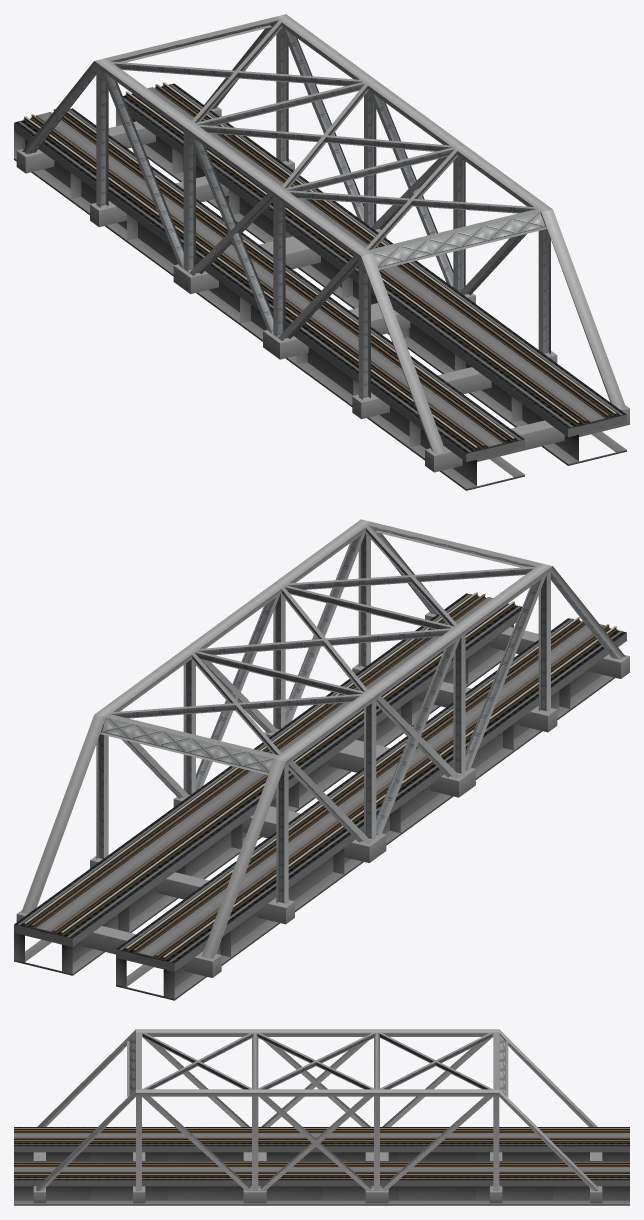
The model's file is YODO_TETU01.glb.
3 renders of one model, top to bottom at view 1: azimuth 30°, elevation 25°; view 2: azimuth 150°, elevation 25°; view 3: azimuth 270°, elevation 25°, orthographic. The views are drawn at different scales.
Parts seen in each view (by area): view 1: obj6; view 2: obj6; view 3: obj6.
Part boxes in pixels (x1,y1,x2,y2): obj6: (14,14,629,490); obj6: (14,519,629,1000); obj6: (14,1029,629,1205).
Bounding box in the file's own units: 25 × 21.09 × 100.
3 materials, 2 textured.
